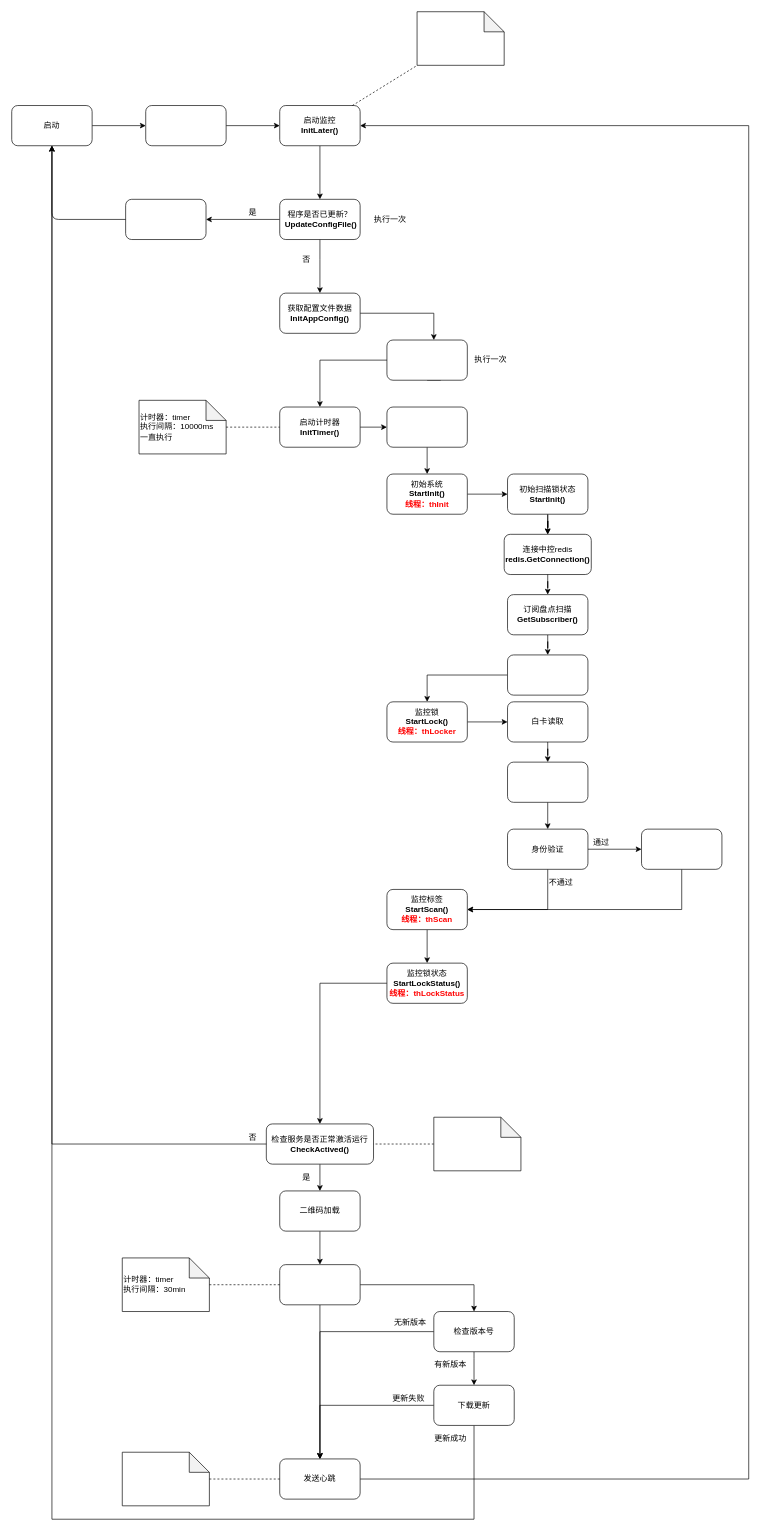
The diagram is 766 pixels wide and 1536 high, and some of its shapes have lost their labels. The shapes that lost their labels are listed below. From the top down, each one's box as (x1, y1, x2, y2) in pixels, then its label:
(416, 11, 504, 65): 计时器： InitLaterTimer 执行间隔：1000ms 一直执行
(145, 105, 226, 146): 初始化界面数据 initData()
(125, 199, 206, 240): 更新配置文件
(386, 339, 467, 380): 数据初始化 InitLockScan(...)
(386, 406, 467, 447): 监控锁开关 StartMonitor()
(507, 654, 588, 695): 扫描完成 GetSubscriber()
(507, 761, 588, 802): 获取白卡用户信息
(641, 828, 722, 869): 开锁
(433, 1117, 521, 1171): 计时器：timer 执行间隔：1min 一直执行
(279, 1264, 360, 1305): 自动更新 AutoUpdate()
(122, 1452, 209, 1506): 计时器：timer 执行间隔：5min
